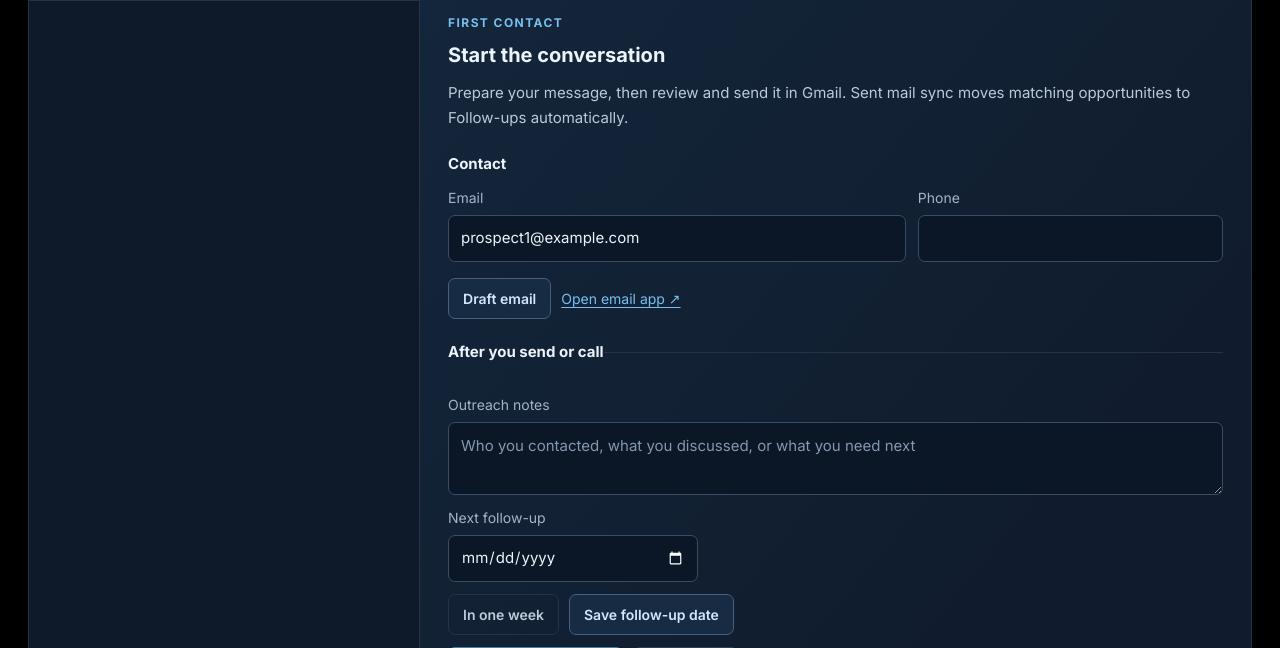
Scenario: admin lead email drafting › preserves a created Gmail draft link when the API reports that recording it failed
The width and height of the screenshot is (1280, 648).
(page scrolled)
Click the button "Draft email".
click(500, 299)  # box left=448, top=278, right=551, bottom=319
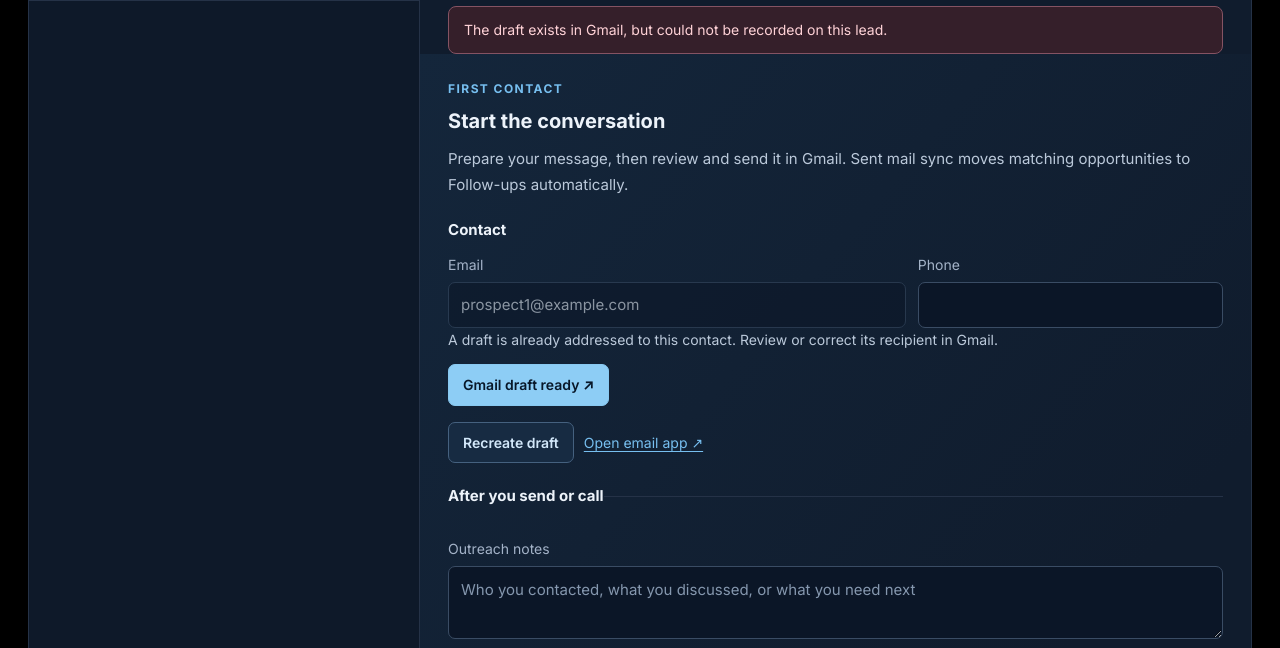
Check: the button "Recreate draft" is enabled, box left=448, top=422, right=574, bottom=463
Check: the message shows "The draft exists in Gmail", box left=464, top=21, right=887, bottom=38
Check: the button "Draft email" is gone
